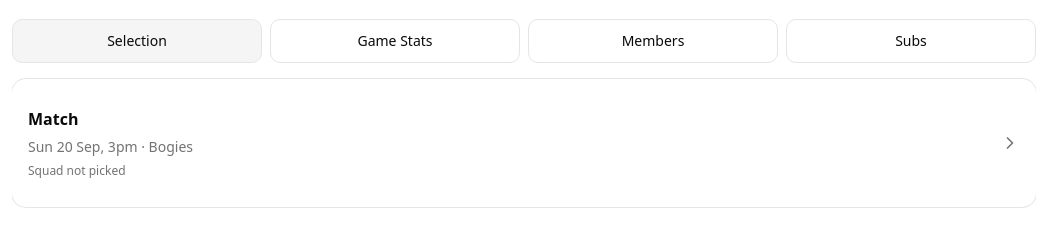
Test: Game Stats view (S17.2 AC2, AC3) › shows an empty state when no match is within the window yet
Click the radio button labelled "Game Stats": x=395, y=41 [270,19,520,63]
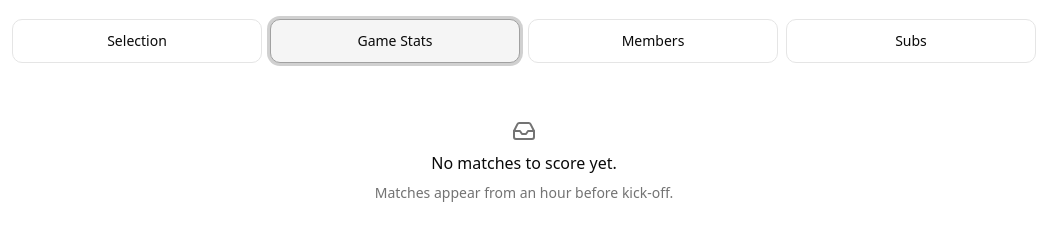
Expected: the text "No matches to score yet." is shown, [431,151,617,175]
